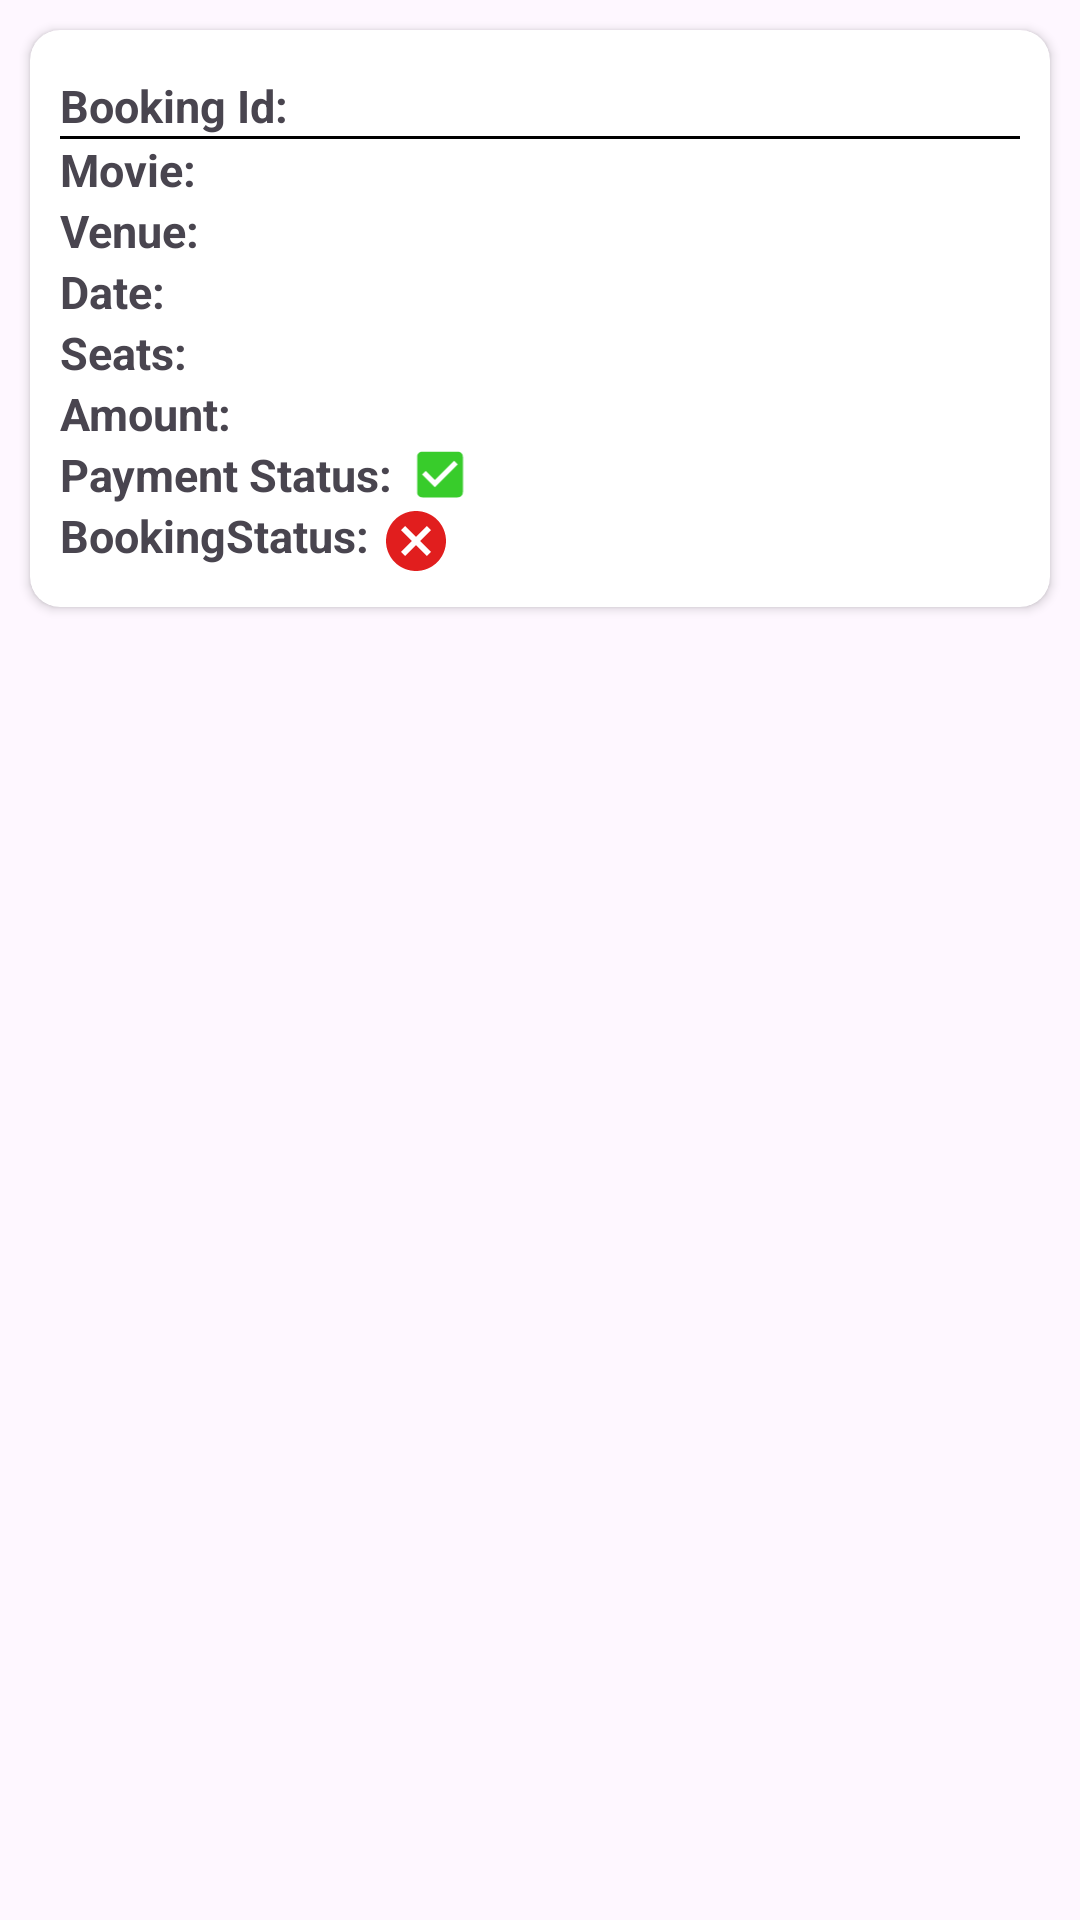

Locate icon controls on the screen. Image size 1080px×1920px, boxes as (x1, y1, x2, y2).
cancel: (386, 511, 446, 571)
successful: (416, 451, 464, 498)
